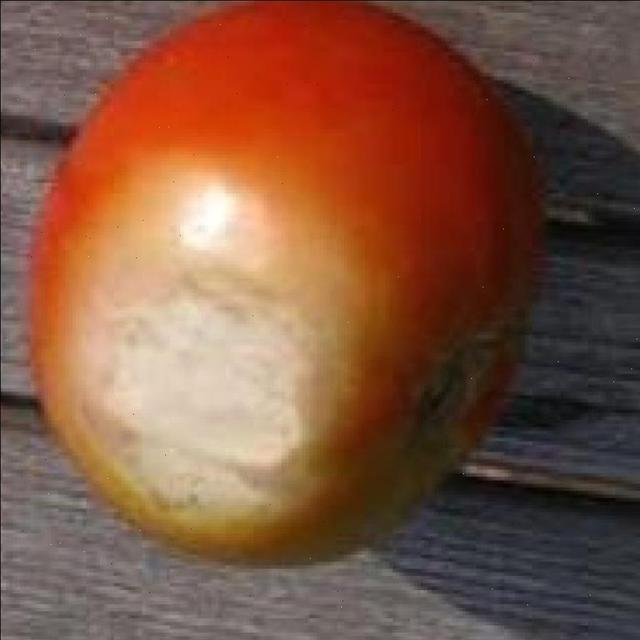Sunscald Fruit: (36, 101, 254, 371)
